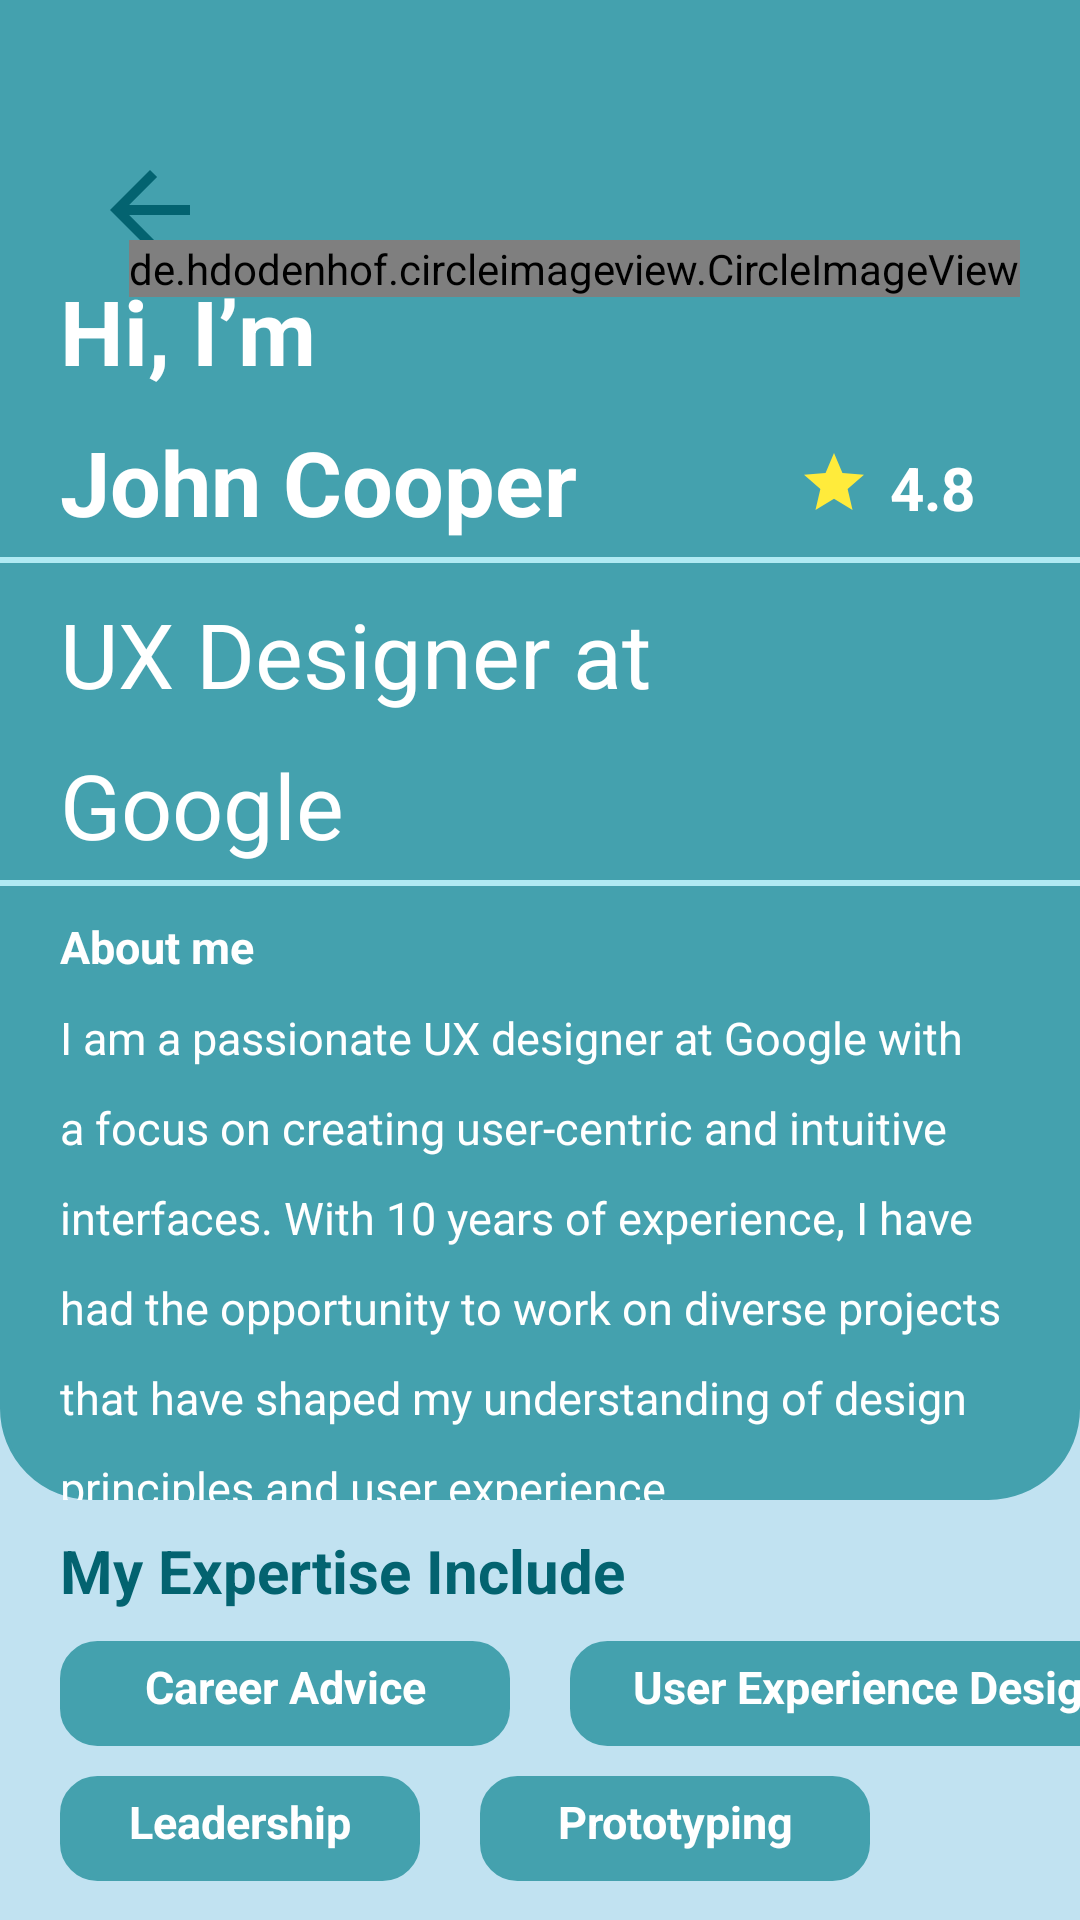

Icons on this 1080×1920 Android screen, each with the point to tap as point (x, y):
star: point (834, 481)
